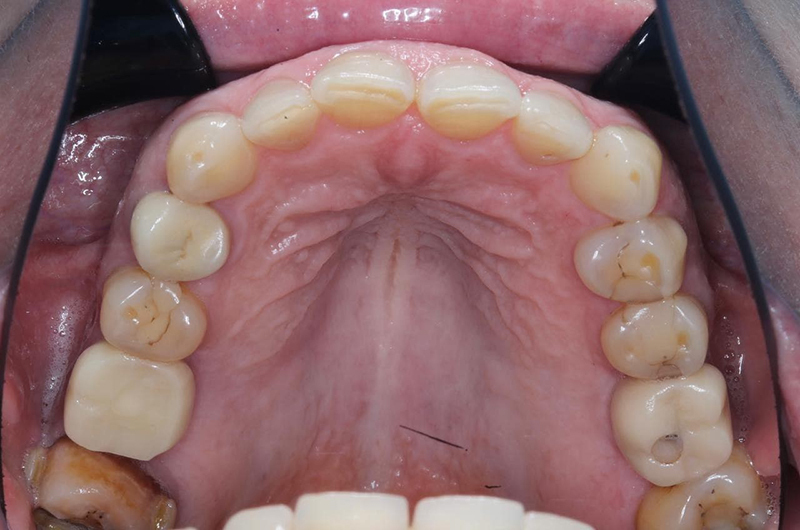UL1BC_decay: (574, 216, 694, 305)
UL1M_decay: (609, 368, 731, 487)
UL2BC_decay: (600, 294, 711, 380)
UL2M_decay: (633, 453, 768, 527)
ULCI_decay: (420, 63, 519, 142)
ULC_decay: (572, 123, 661, 220)
ULLI_healthy: (518, 81, 591, 166)
UR1BC_decay: (130, 191, 231, 276)
UR1M_healthy: (62, 342, 196, 463)
UR2BC_decay: (101, 274, 204, 361)
UR2M_decay: (32, 439, 173, 530)
URCI_decay: (312, 53, 417, 126)
URC_decay: (166, 112, 261, 205)
URLI_decay: (242, 81, 318, 149)
